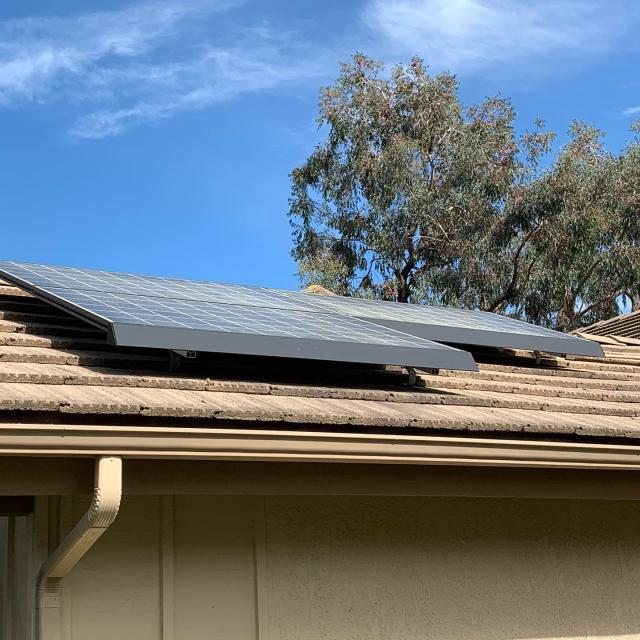dust-solar-panel: (0, 266, 594, 357)
